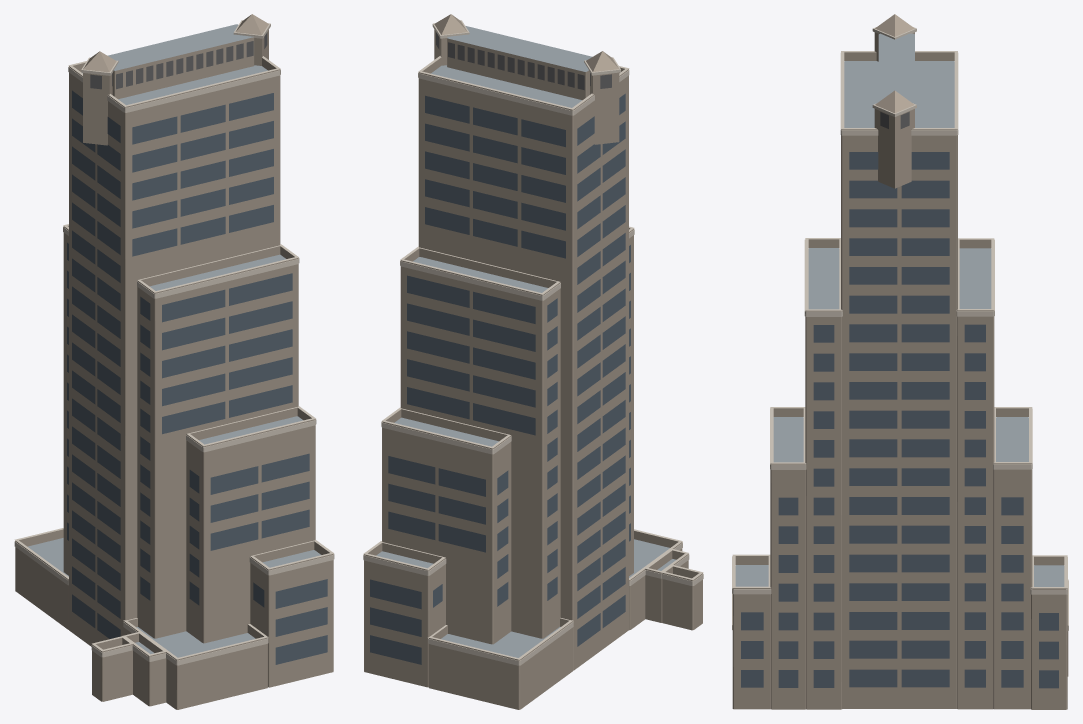
The model's file is phl-two-commerce-square.glb.
The picture shows the model from 3 angles, left to right: view 1: azimuth 30°, elevation 25°; view 2: azimuth 150°, elevation 25°; view 3: azimuth 270°, elevation 25°; orthographic projection. The views are drawn at different scales.
Visible parts, largest first — view 1: Two Commerce Square; view 2: Two Commerce Square; view 3: Two Commerce Square.
Part boxes in pixels (x1,y1,x2,y2): Two Commerce Square: (14, 14, 334, 709); Two Commerce Square: (363, 14, 703, 709); Two Commerce Square: (732, 14, 1068, 709).
Bounding box in the file's own units: 65.32 × 170 × 83.84.
